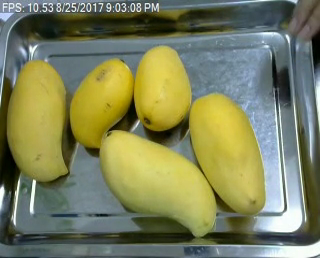Mango: (97, 129, 223, 236), (187, 90, 270, 218), (4, 57, 69, 183), (68, 55, 137, 149), (133, 40, 190, 130)
